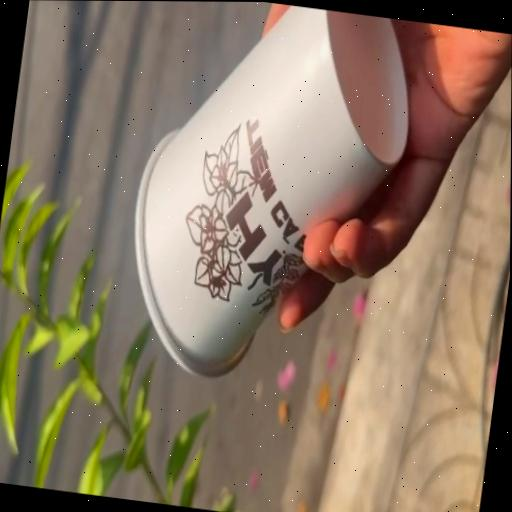Ly_giay: (135, 4, 408, 375)
